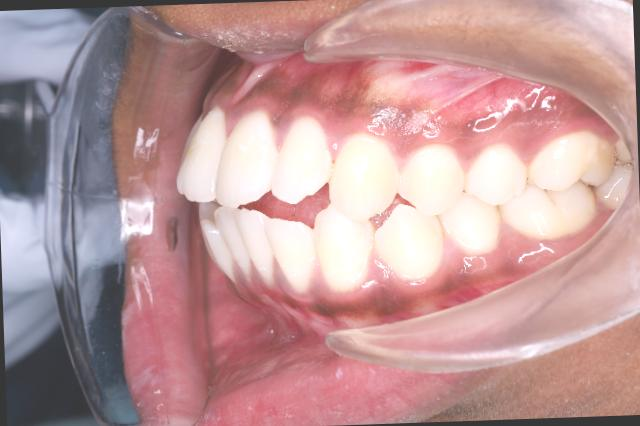canine class II 1/4: (310, 126, 448, 302)
molar class I: (496, 127, 621, 250)
